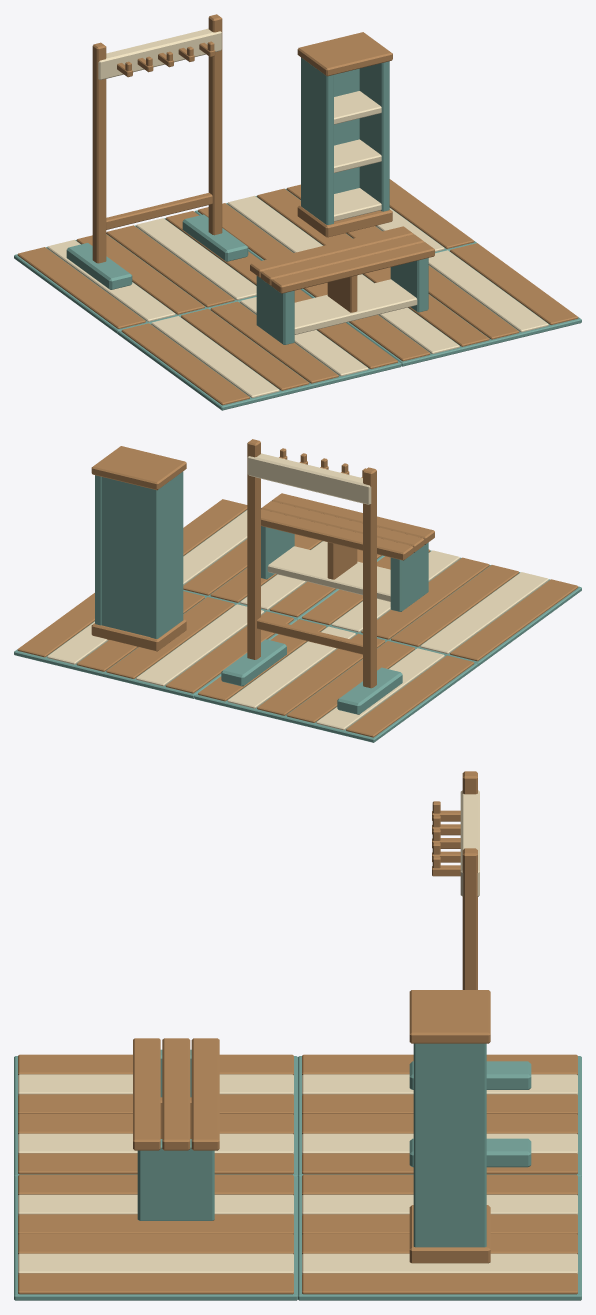
3 renders of one model, top to bottom at view 1: azimuth 30°, elevation 25°; view 2: azimuth 150°, elevation 25°; view 3: azimuth 270°, elevation 25°, orthographic. The views are drawn at different scales.
Parts seen in each view (by area): view 1: entryway-arrival-scene-01; view 2: entryway-arrival-scene-01; view 3: entryway-arrival-scene-01.
Boxes of the visible parts, box(x1,y1,x2,y2) form: entryway-arrival-scene-01: box(14, 14, 581, 410); entryway-arrival-scene-01: box(14, 439, 581, 742); entryway-arrival-scene-01: box(14, 771, 581, 1300).
Bounding box in the file's own units: 2.8 × 1.73 × 2.8.
